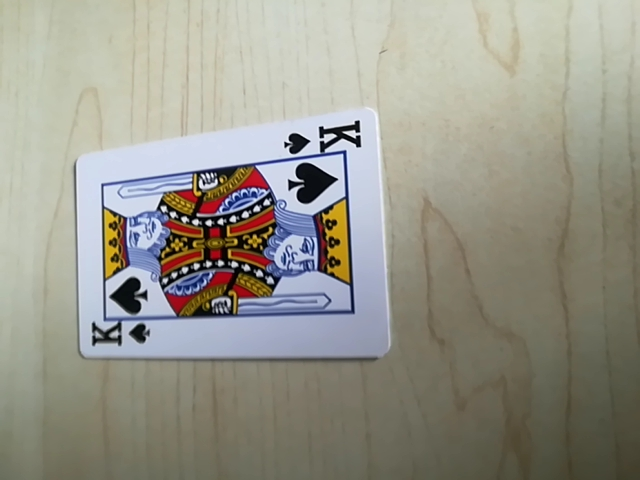ht k: (279, 121, 364, 158), (85, 315, 151, 356)
